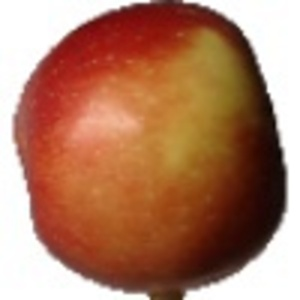maçã braeburn: (12, 2, 286, 293)
